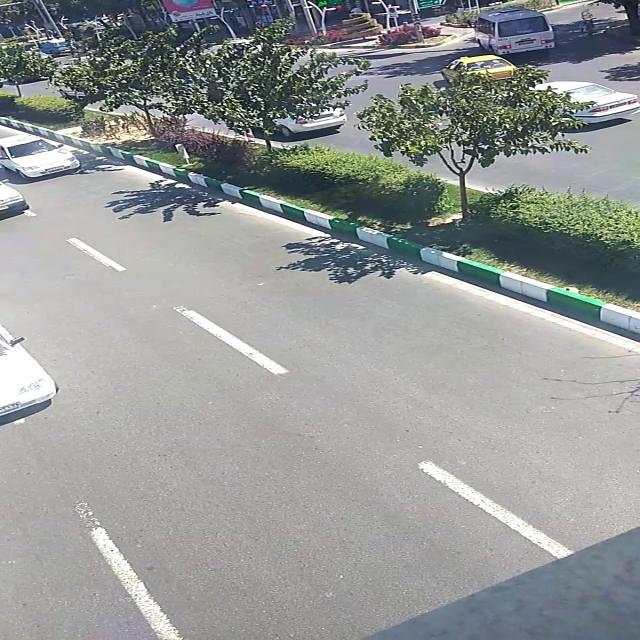car: (532, 80, 638, 124), (469, 9, 556, 55), (0, 134, 78, 178), (441, 56, 521, 82), (278, 109, 347, 139)
